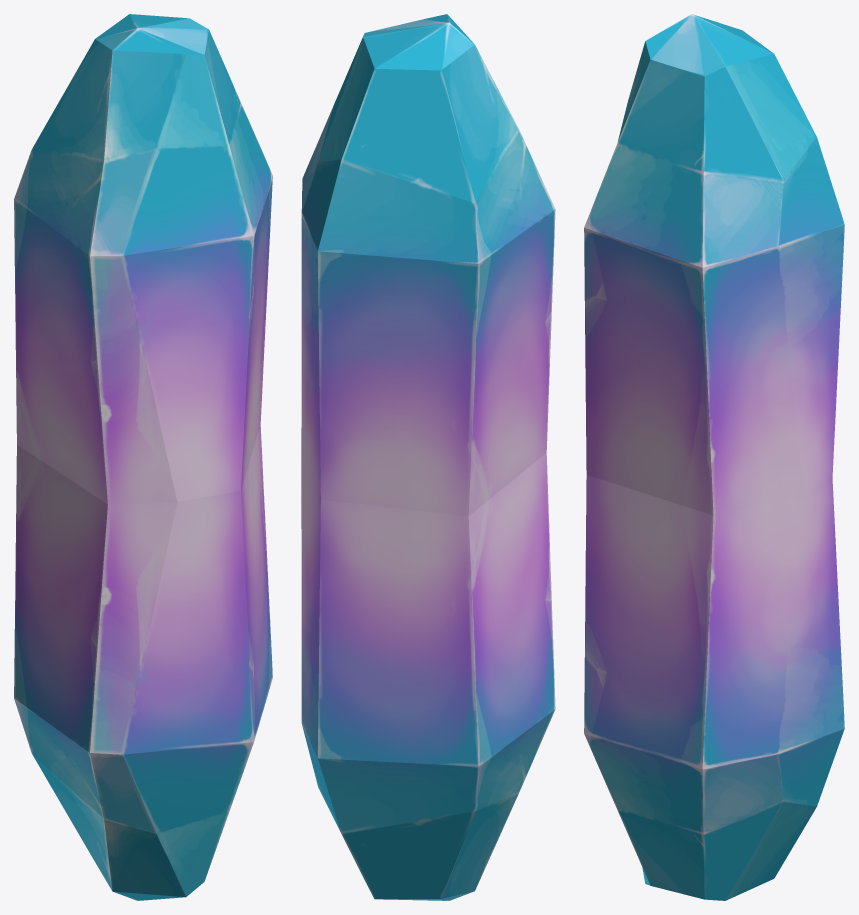
File: Crystal.obj
3 renders of one model, left to right at view 1: azimuth 30°, elevation 25°; view 2: azimuth 150°, elevation 25°; view 3: azimuth 270°, elevation 25°, orthographic.
Visible parts, largest first — view 1: Crystal; view 2: Crystal; view 3: Crystal.
Boxes of the visible parts, x1,y1,x2,y2 form: Crystal: (14, 14, 272, 900); Crystal: (301, 14, 555, 900); Crystal: (584, 14, 844, 900).
Size of the model in its own units: 31.34 by 120 by 32.59.
